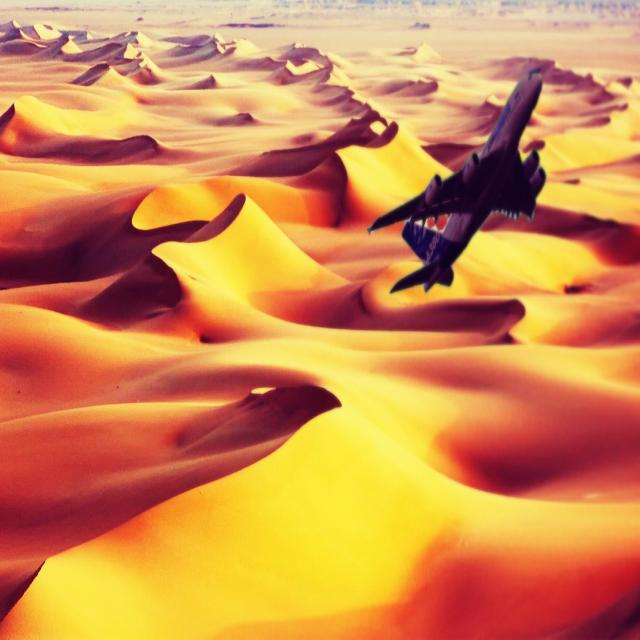airplane: (367, 68, 546, 295)
